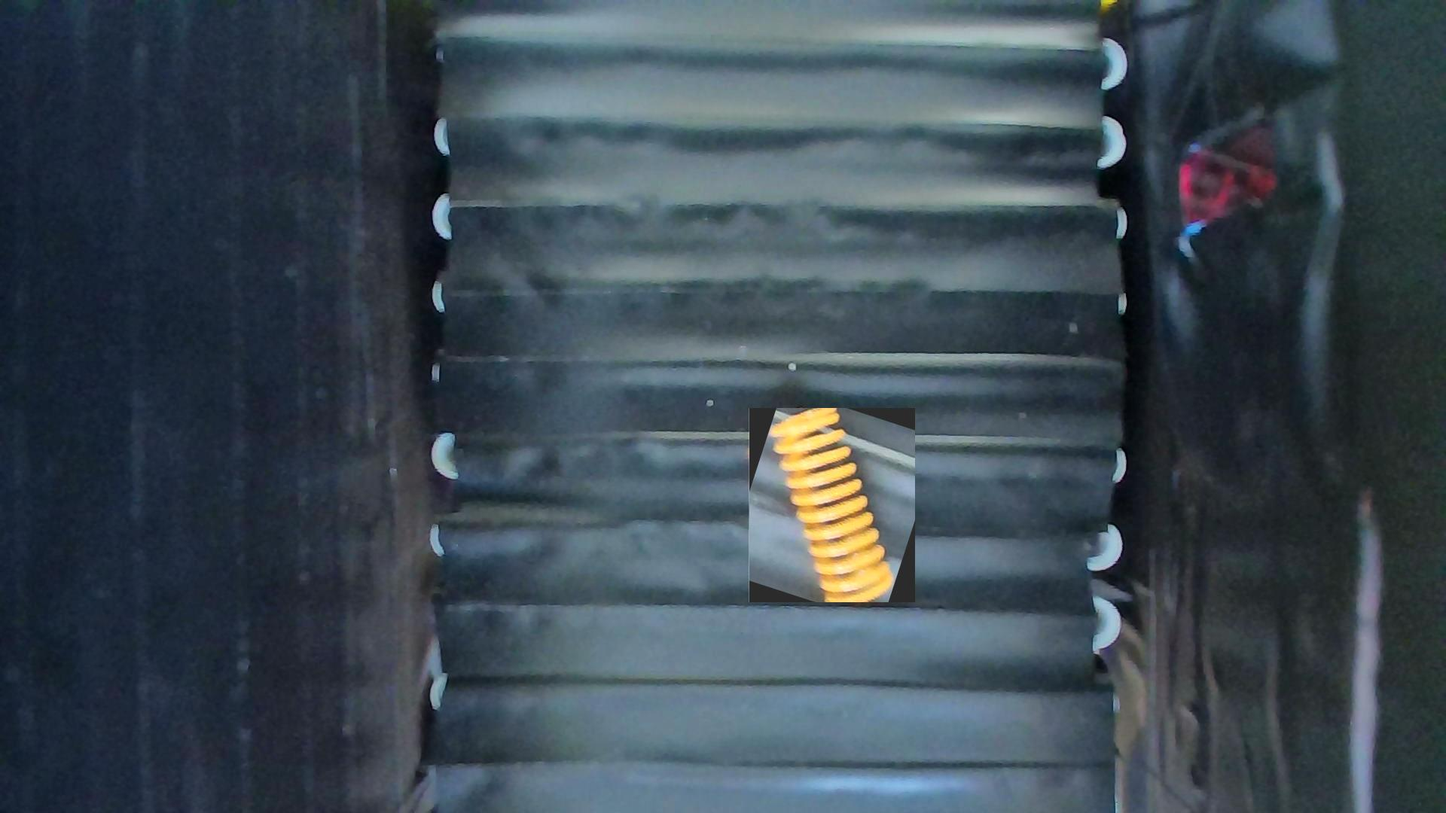spring: (748, 408, 915, 602)
